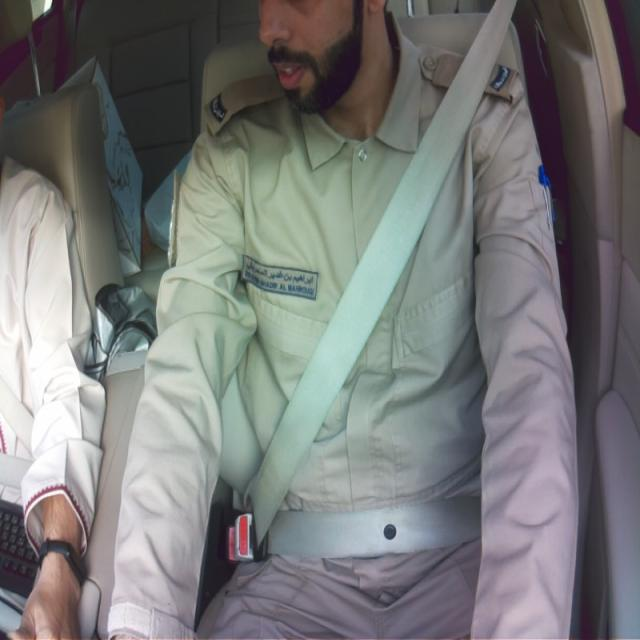seatbelt: (251, 0, 513, 558)
